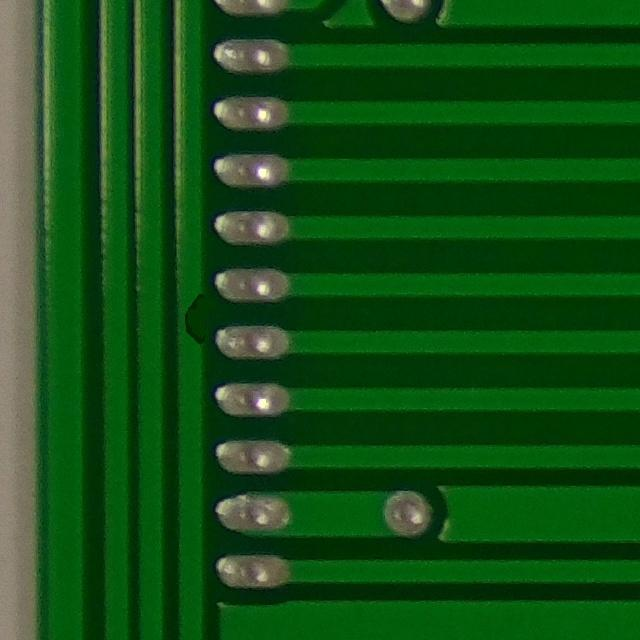mouse_bite: (169, 281, 220, 356)
